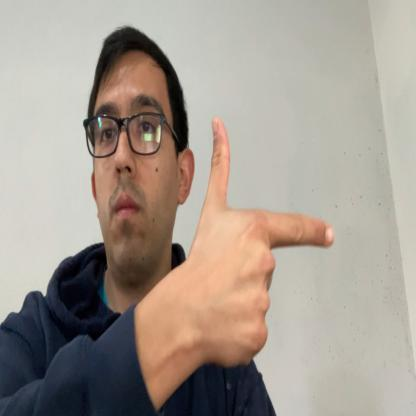G: (200, 116, 333, 370)
